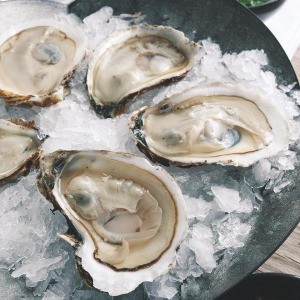oyster_brain food: (75, 156, 159, 276), (82, 23, 179, 107), (187, 93, 285, 169), (4, 19, 68, 107)
